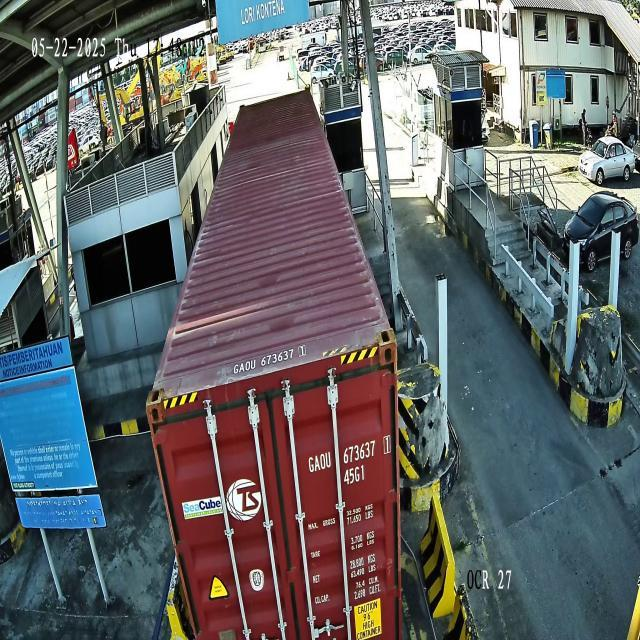ISO: (344, 464, 366, 486)
container_number: (308, 433, 391, 474)
